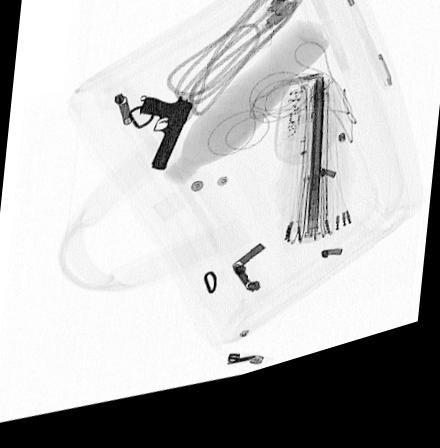Gun: (138, 104, 195, 178)
